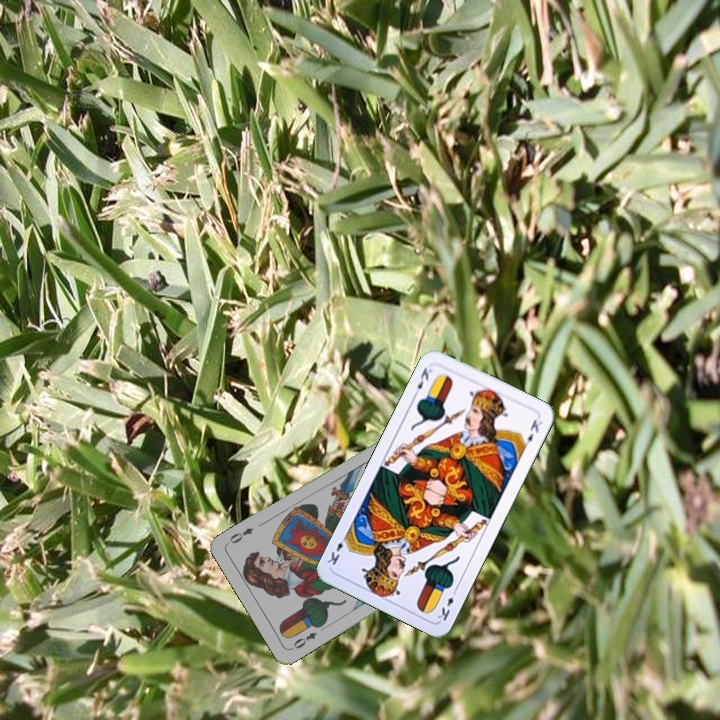EK: (433, 584, 460, 623), (410, 363, 435, 399)
EO: (287, 628, 319, 652)
